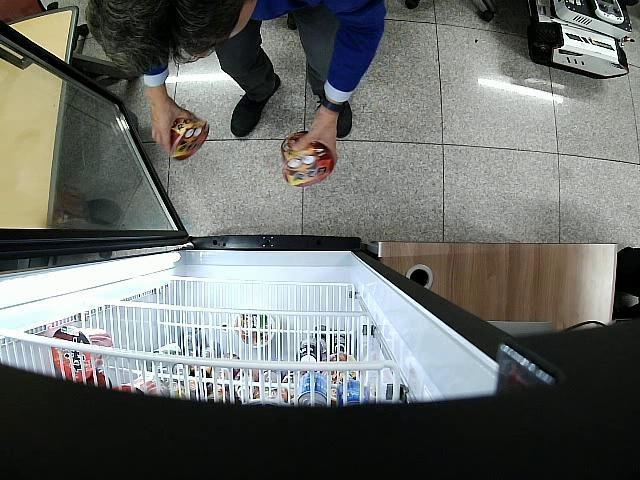05_nuguri_L: (281, 132, 334, 187), (170, 118, 209, 161)
